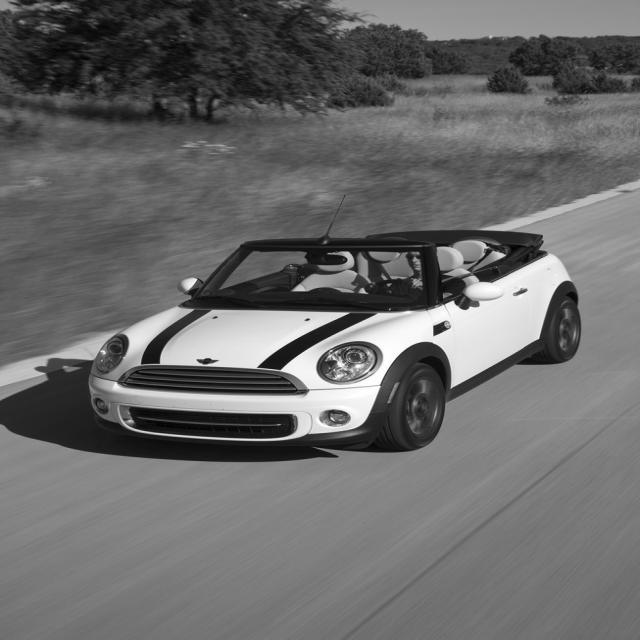car: (87, 217, 581, 452)
